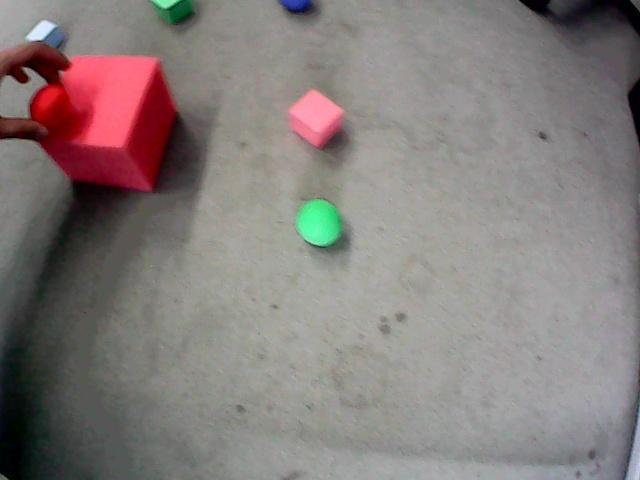blue_block: (26, 20, 64, 47)
red_block: (41, 56, 176, 190), (289, 90, 343, 147)
